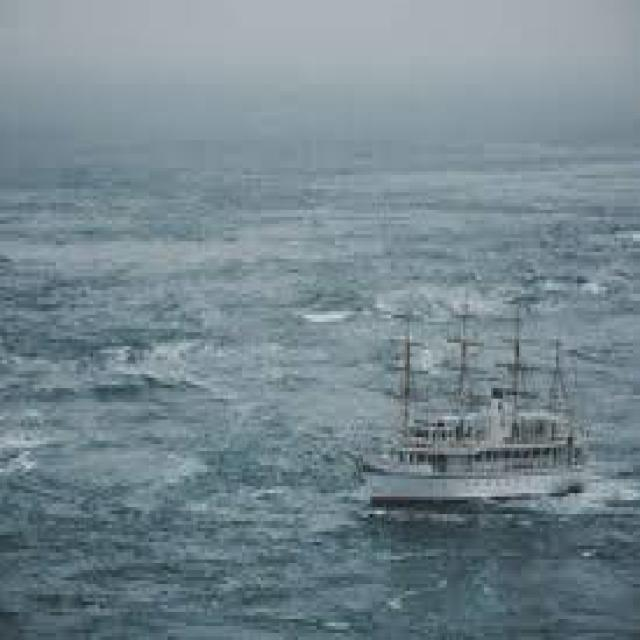fishing boat: (342, 277, 604, 510)
